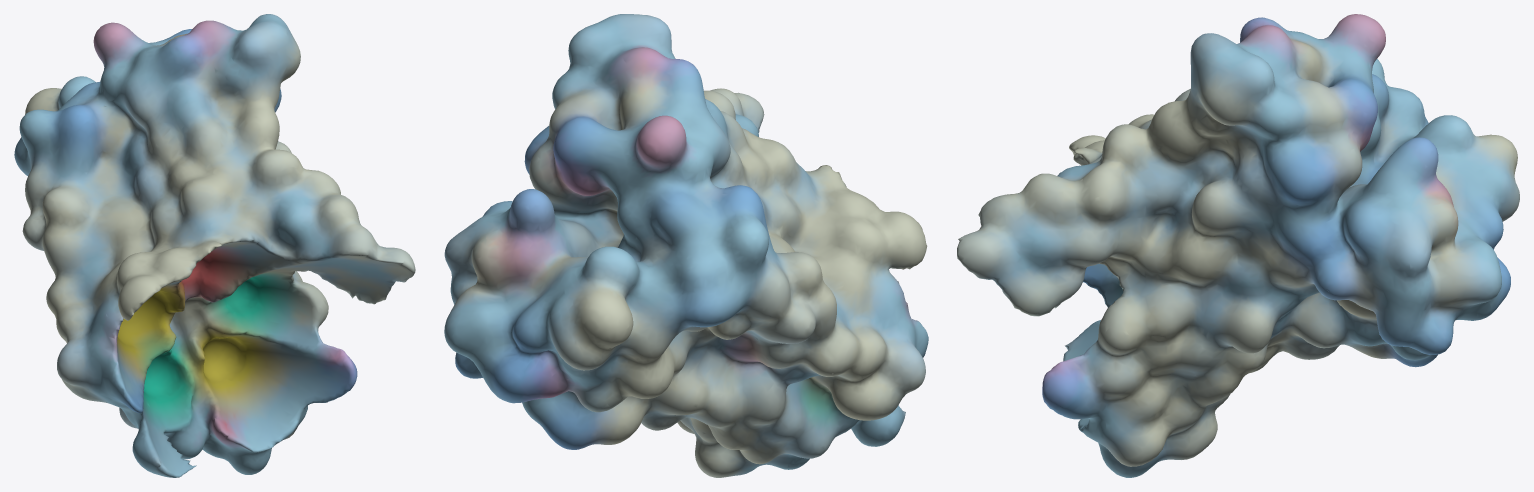
File: beta2_exp.glb
3 renders of one model, left to right at view 1: azimuth 30°, elevation 25°; view 2: azimuth 150°, elevation 25°; view 3: azimuth 270°, elevation 25°, orthographic. The views are drawn at different scales.
Visible parts, largest first — view 1: geometry_0; view 2: geometry_0; view 3: geometry_0.
Part boxes in pixels (left/top/right/bottom): geometry_0: left=14, top=14, right=415, bottom=477; geometry_0: left=444, top=14, right=928, bottom=477; geometry_0: left=957, top=14, right=1519, bottom=477.
Size of the model in its own units: 0.4278 by 0.5468 by 0.5997.
